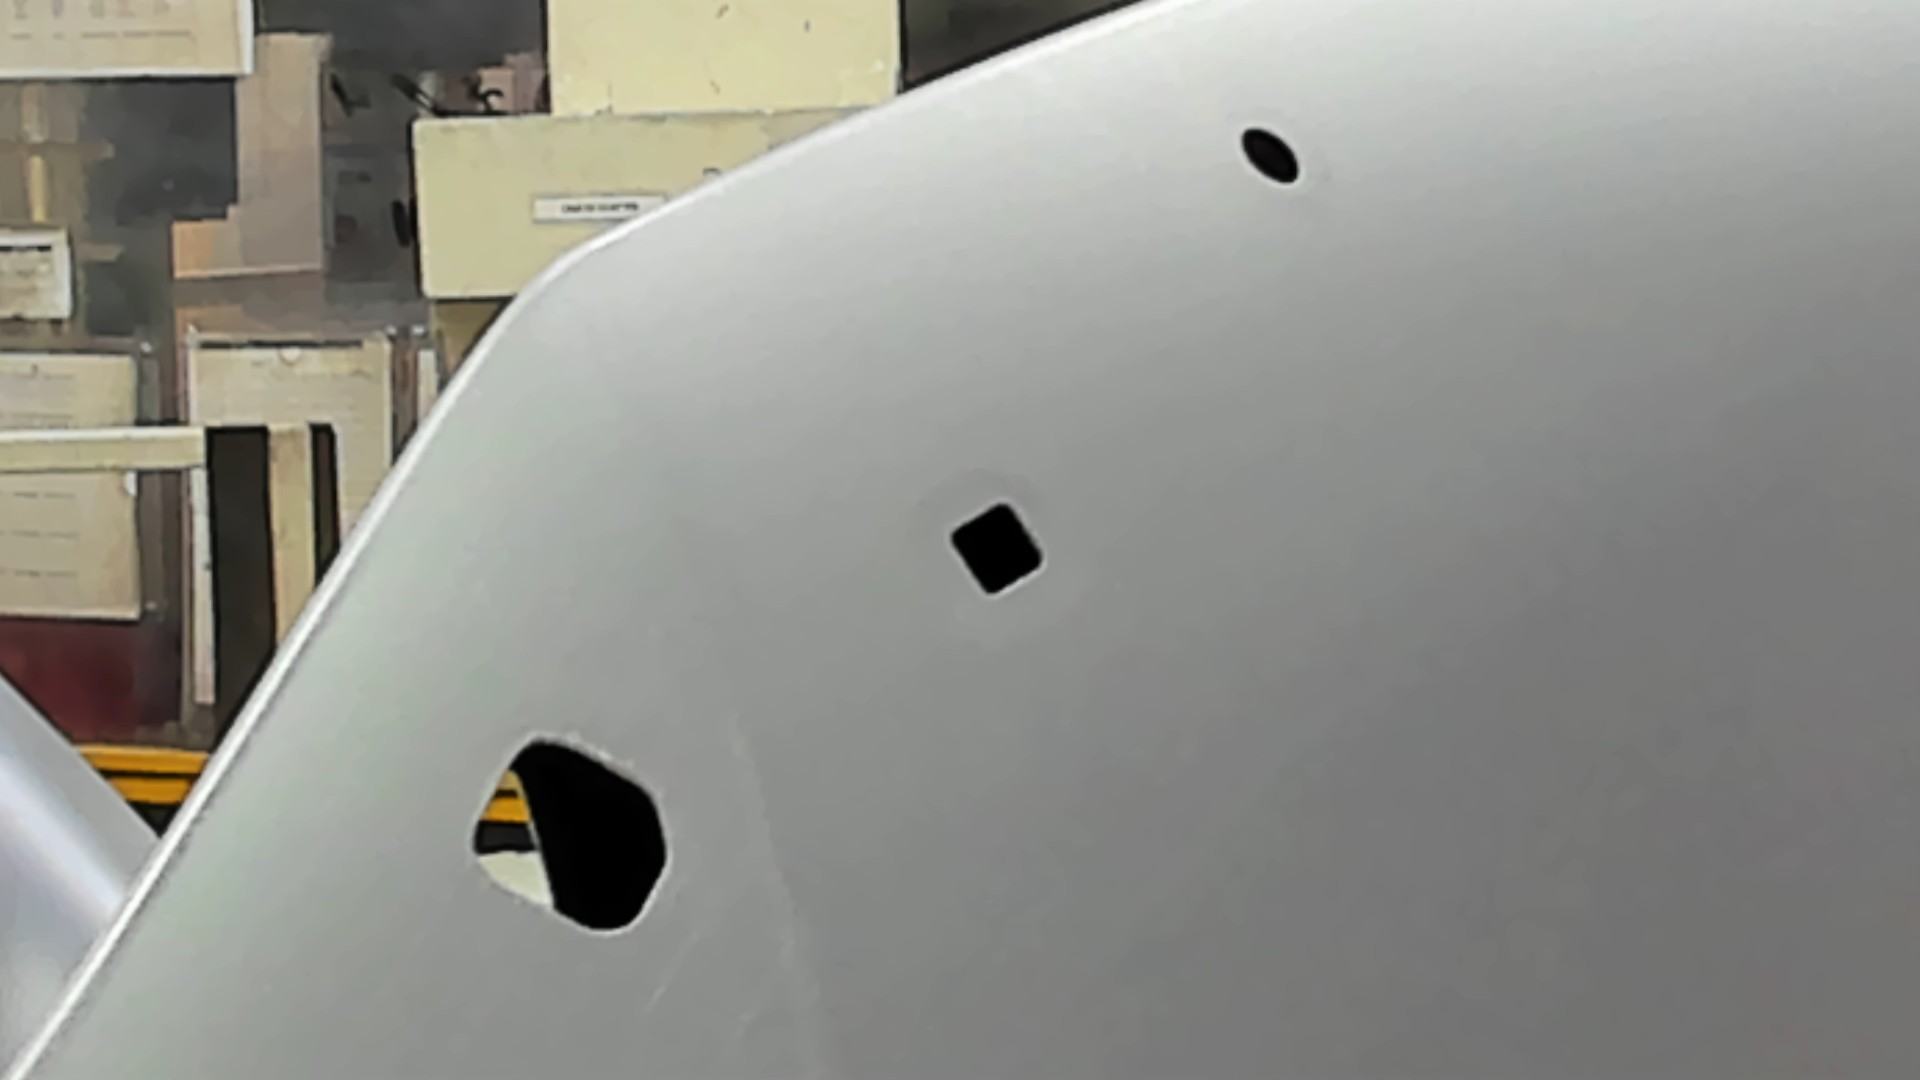capo: (1056, 200, 1920, 1080)
chico: (1236, 120, 1309, 194)
grande: (465, 728, 676, 938)
mediano: (944, 496, 1048, 605)
